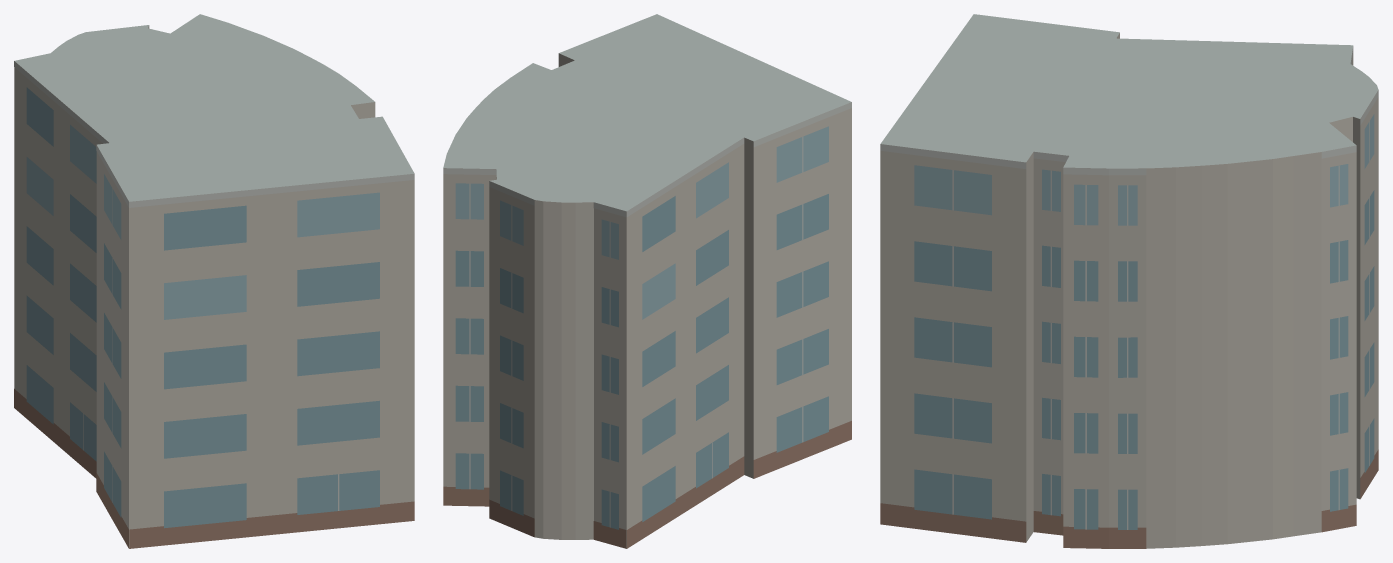
Rendered from survey-upis-32541109.glb.
3 views of the same model, side by side, from view 1: azimuth 30°, elevation 25°; view 2: azimuth 150°, elevation 25°; view 3: azimuth 270°, elevation 25° (orthographic). The views are drawn at different scales.
Parts seen in each view (by area): view 1: survey-upis-32541109.tmp; view 2: survey-upis-32541109.tmp; view 3: survey-upis-32541109.tmp.
Part boxes in pixels (x1,y1,x2,y2): survey-upis-32541109.tmp: (14, 14, 414, 548); survey-upis-32541109.tmp: (443, 14, 851, 548); survey-upis-32541109.tmp: (880, 14, 1378, 548).
Bounding box in the file's own units: 11.95 × 13.7 × 16.27.
